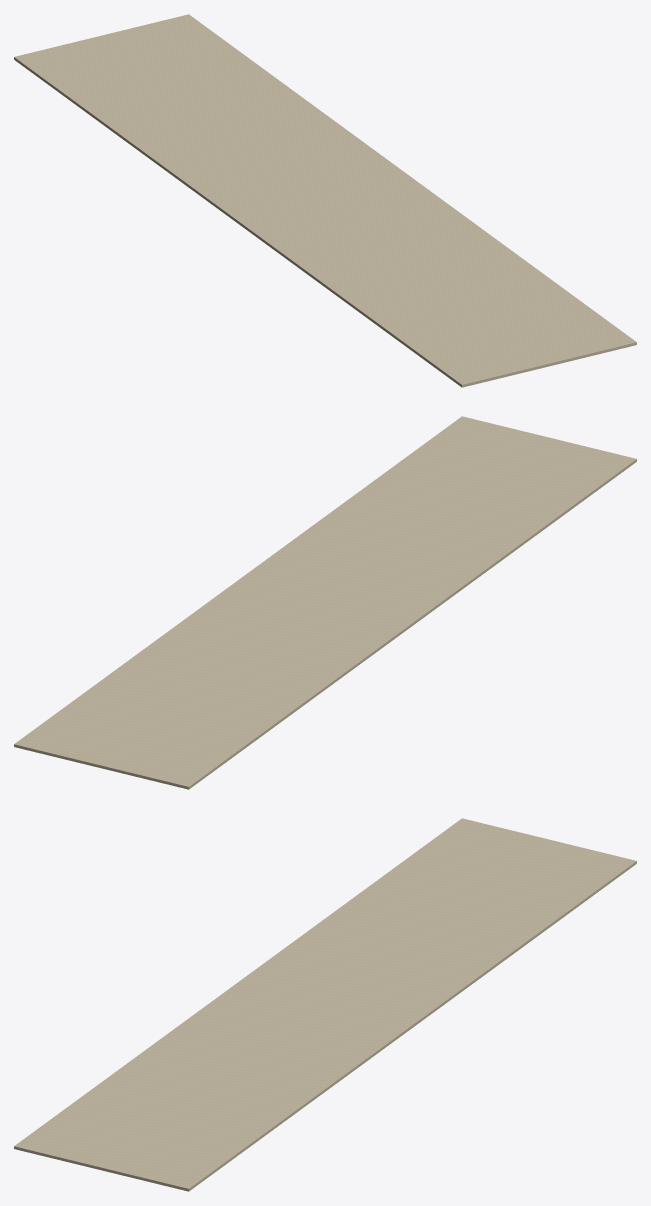
The model's file is COURT_D09_SA_03__floor.glb.
3 views of the same model, one above another, from view 1: azimuth 30°, elevation 25°; view 2: azimuth 150°, elevation 25°; view 3: azimuth 330°, elevation 25° (orthographic).
Parts seen in each view (by area): view 1: COURT_D09_SA_03__floor__warm_stone; view 2: COURT_D09_SA_03__floor__warm_stone; view 3: COURT_D09_SA_03__floor__warm_stone.
Part boxes in pixels (bbox=[...]): COURT_D09_SA_03__floor__warm_stone: bbox=[14, 14, 636, 387]; COURT_D09_SA_03__floor__warm_stone: bbox=[14, 416, 636, 789]; COURT_D09_SA_03__floor__warm_stone: bbox=[14, 818, 636, 1191].
Bounding box in the file's own units: 16 × 0.24 × 71.
Materials: 1 (1 with a texture image).
